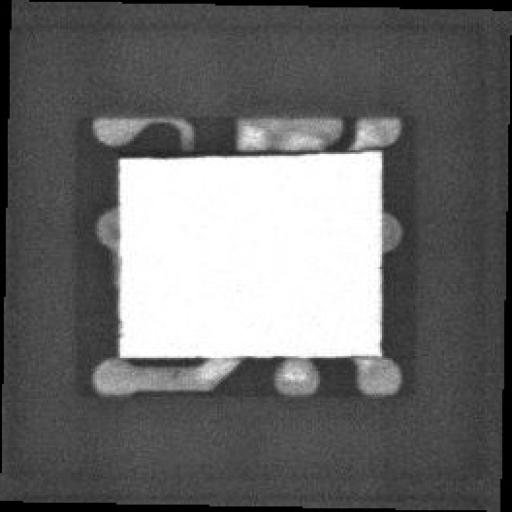DIE_BROKEN: (116, 145, 300, 161)
